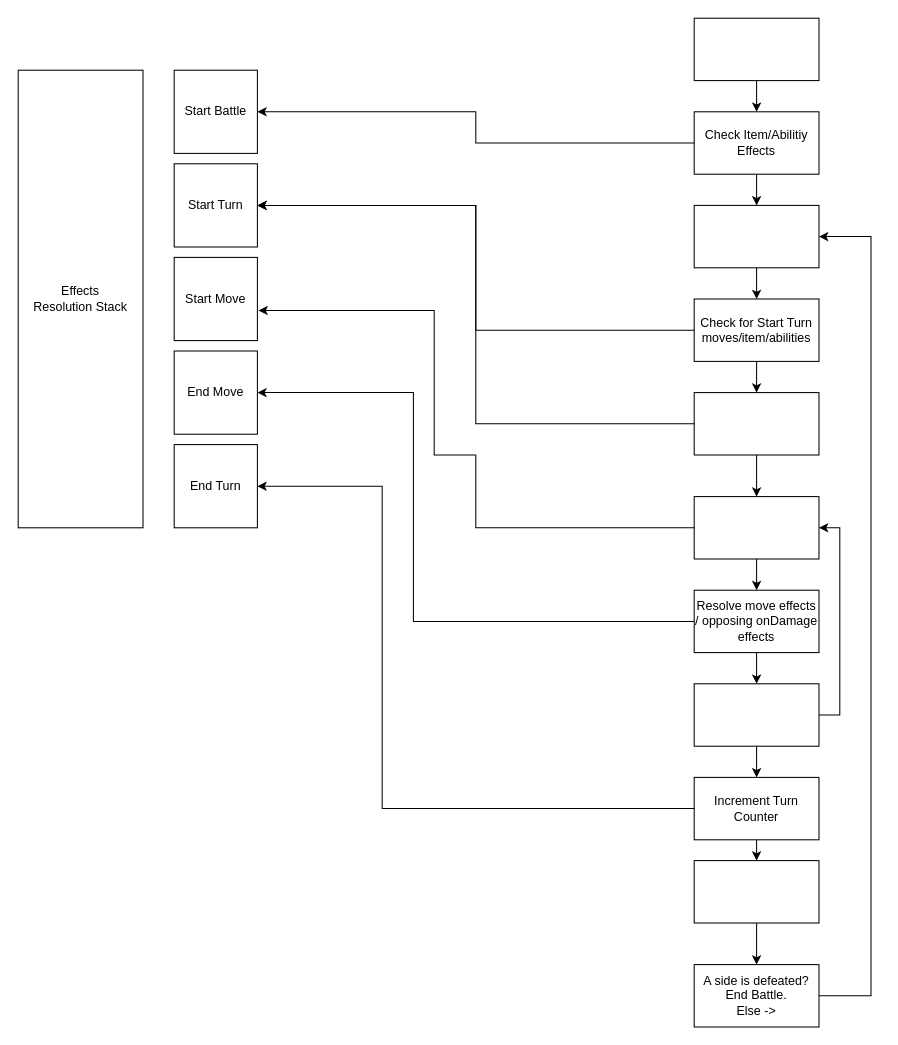
Image size: 898x1045. Some labels were removed from this diagram. Here are the shapes that lost their labels. From the top down, the box of each, then its label:
(693, 17, 819, 81): Battle Start
(693, 204, 819, 268): Select Moves
(693, 392, 819, 455): Manually Switches occur
(693, 496, 819, 559): Fastest Critter/highest priority move goes first
(693, 683, 819, 746): Next critter turn
(693, 860, 819, 923): Any deaths? Let switch occur
